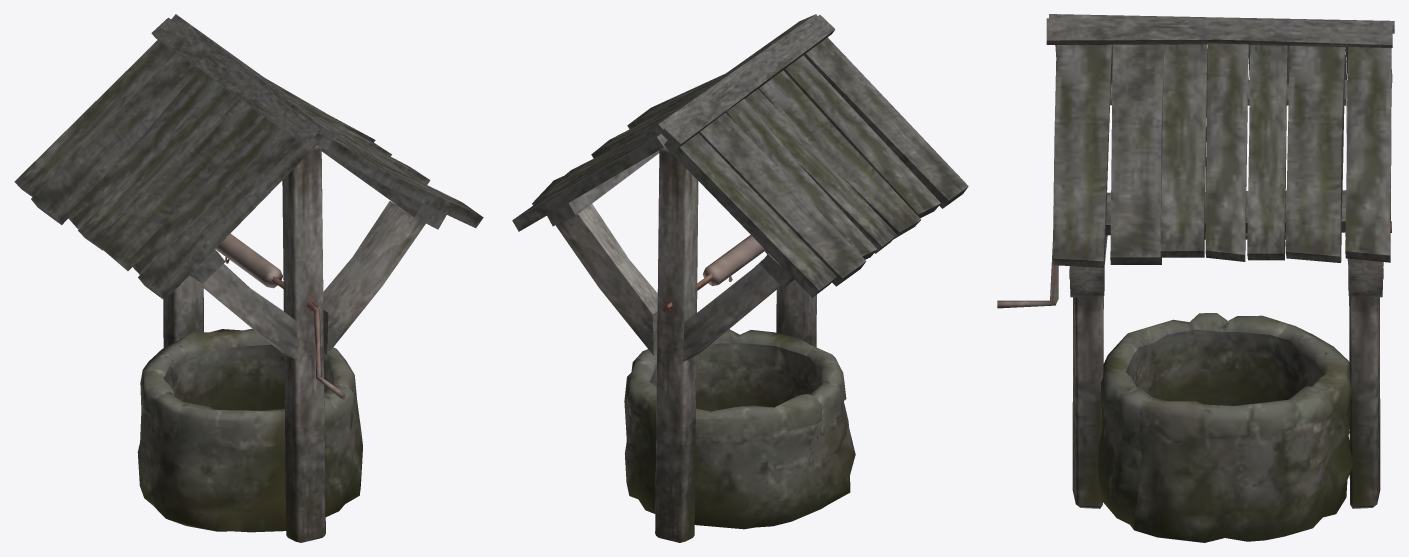
File: well_492.glb
The picture shows the model from 3 angles, left to right: view 1: azimuth 30°, elevation 25°; view 2: azimuth 150°, elevation 25°; view 3: azimuth 270°, elevation 25°; orthographic projection. The views are drawn at different scales.
Parts seen in each view (by area): view 1: well_492; view 2: well_492; view 3: well_492.
Boxes of the visible parts, bbox=[...] form: well_492: bbox=[14, 14, 483, 542]; well_492: bbox=[512, 14, 968, 542]; well_492: bbox=[997, 14, 1394, 542].
Size of the model in its own units: 1.51 by 1.9 by 1.42.
Materials: 1 (1 with a texture image).
